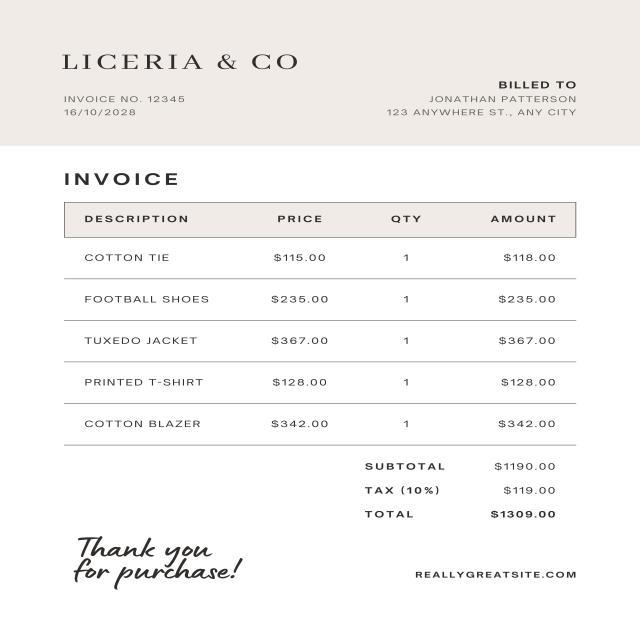customer_address: (382, 105, 580, 122)
customer_name: (421, 93, 578, 105)
invoice_date: (62, 106, 140, 122)
invoice_number: (146, 94, 192, 104)
invoice_subtotal: (487, 456, 559, 474)
invoice_total: (485, 504, 559, 524)
item_description: (79, 244, 215, 441)
item_quantity: (392, 245, 417, 443)
item_total_price: (492, 240, 560, 438)
item_unit_price: (262, 244, 334, 440)
supplier_name: (50, 45, 314, 77)
tax_rate: (500, 482, 566, 500)
